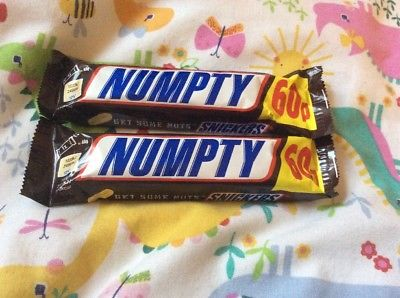snickers: (198, 120, 267, 132), (209, 193, 281, 200)
